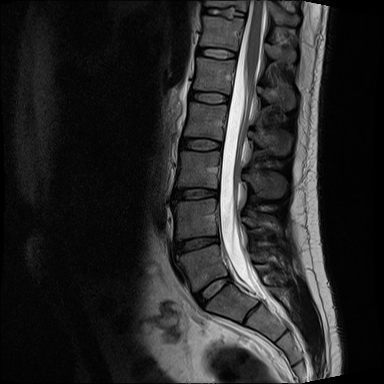Degenerative Disc Disease (DDD): (170, 229, 220, 262)
Normal IVD: (190, 269, 236, 313), (172, 130, 223, 154), (167, 182, 220, 205), (183, 88, 233, 107), (198, 4, 250, 21), (193, 45, 240, 63)
